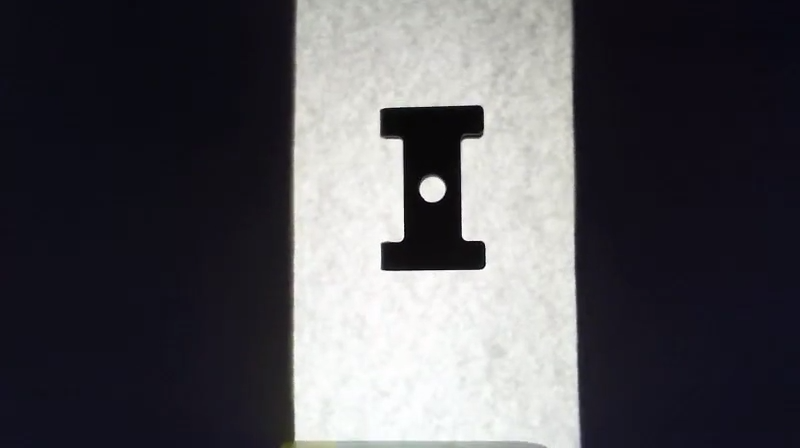O002: (375, 100, 491, 272)
